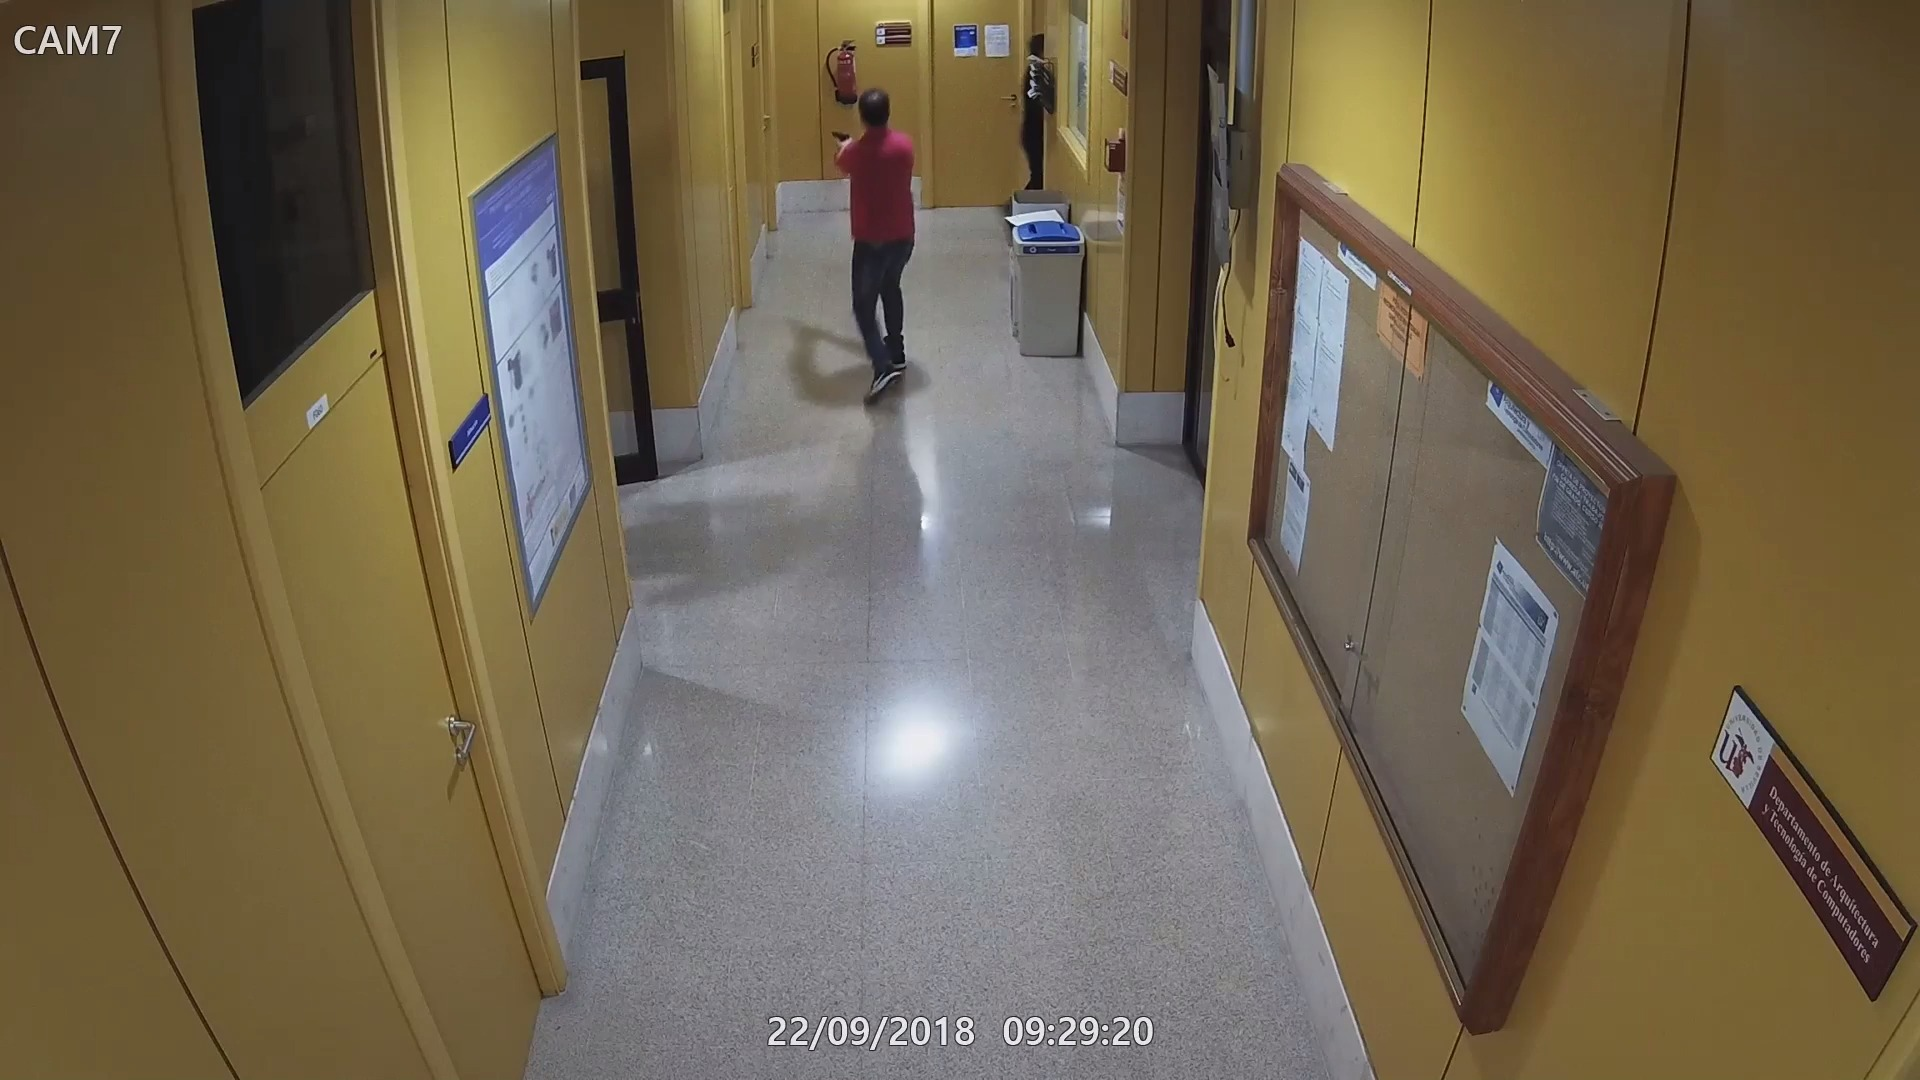Handgun: (827, 125, 855, 152)
